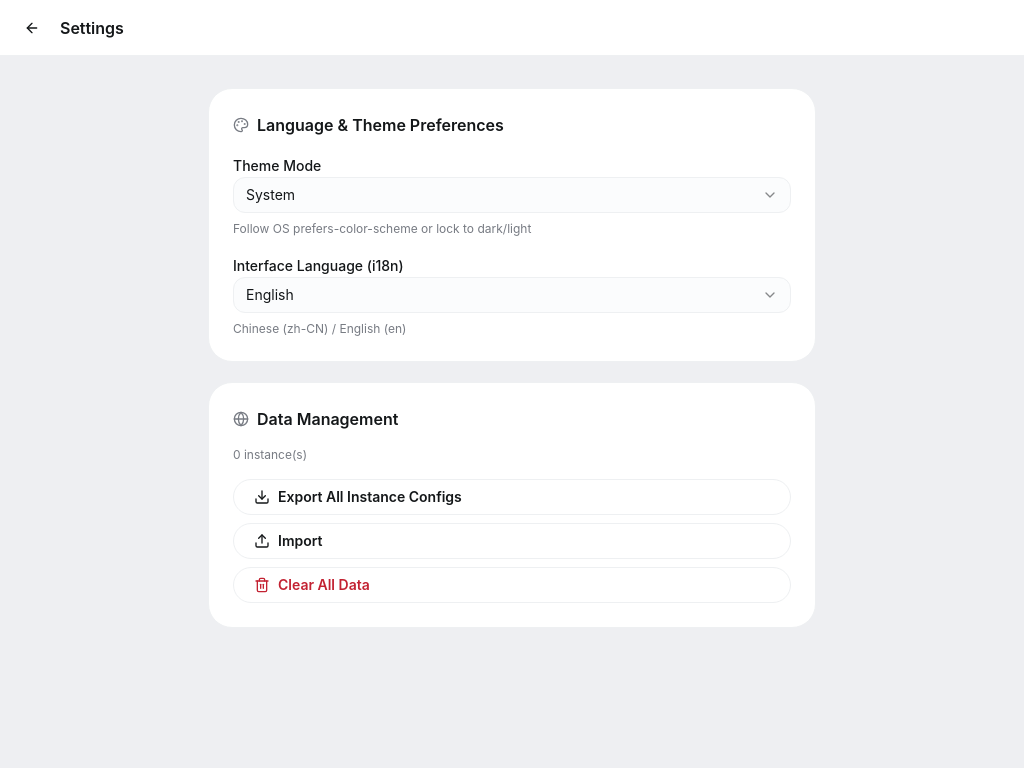
it: GlobalSettingsPage import dialog › answers a valid-but-empty array with the plain zero result
Click the button "Import" at (300, 540), box [233,523,791,559]
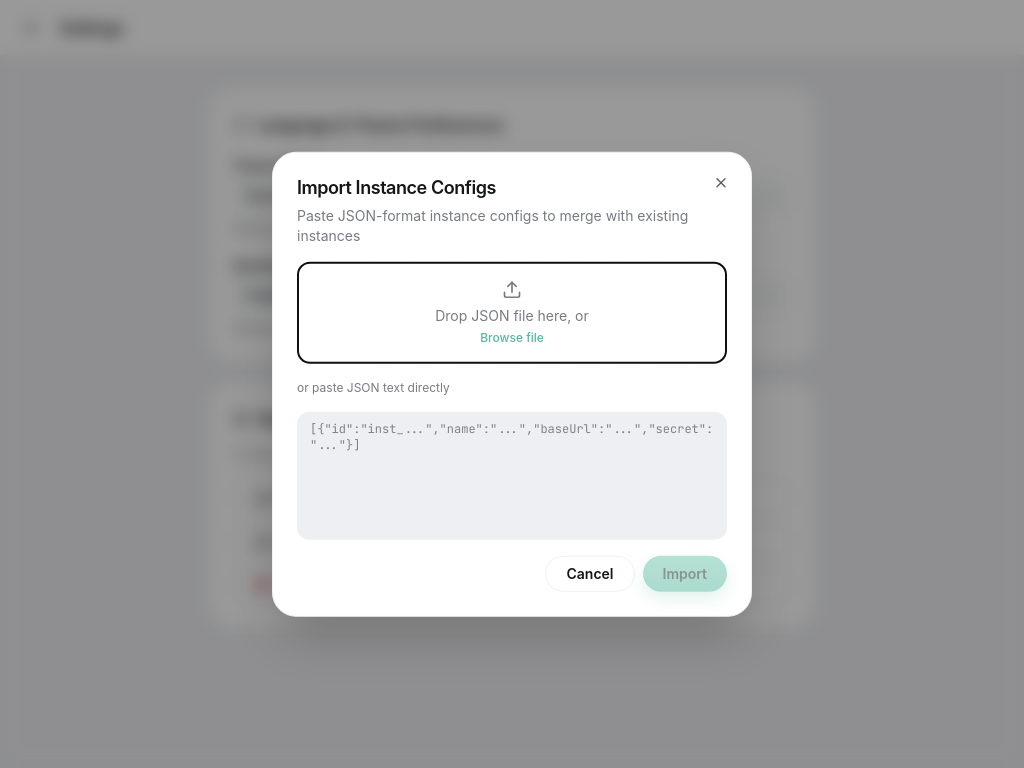
Replace the text in the text box named "Import Instance Configs" with "[]" at (512, 475), box [297,411,727,539]
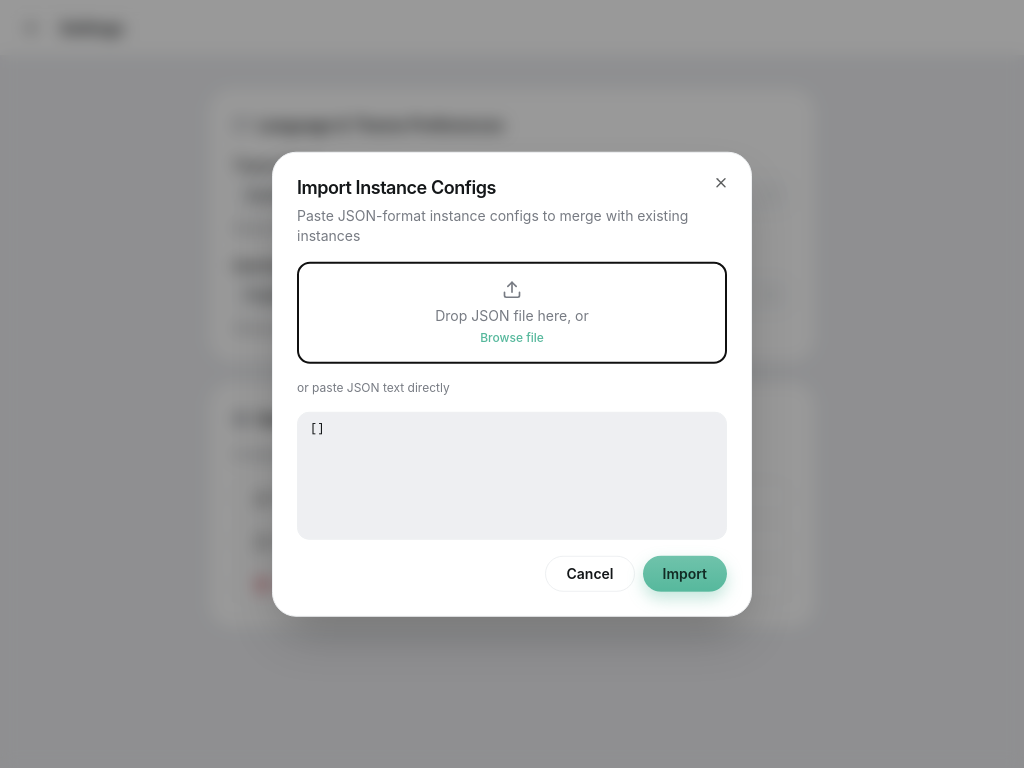
Click the button "Import" at (685, 573), box [642,555,727,591]
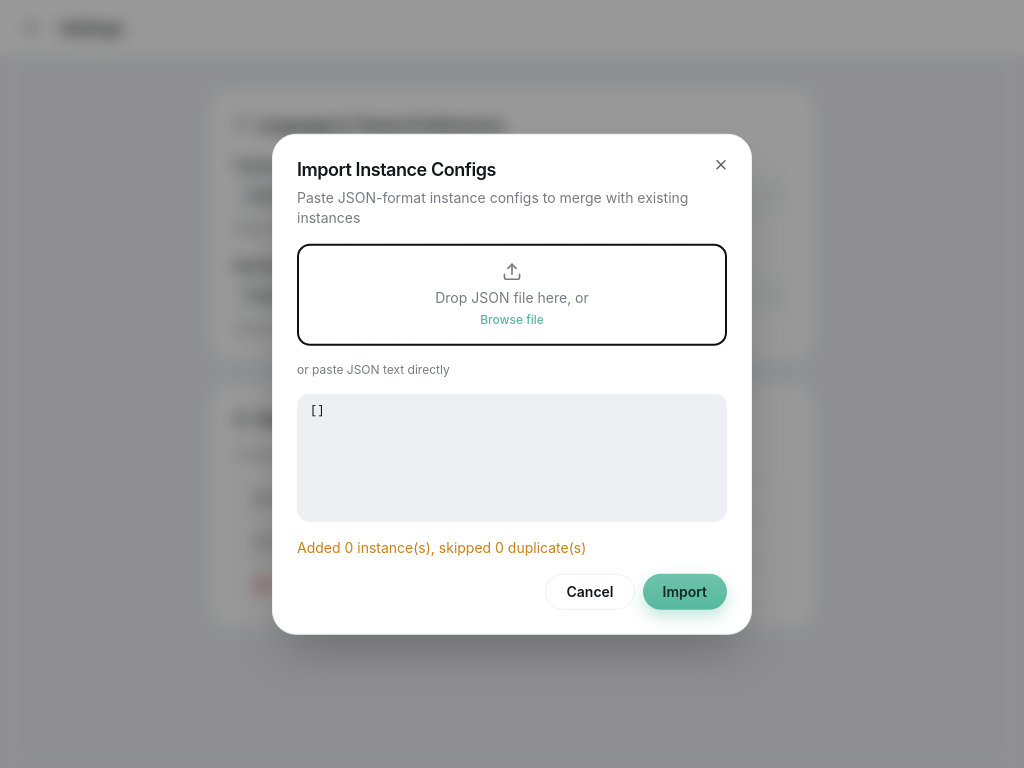
Now the message reads "Added 0 instance(s), skipped 0 duplicate(s)", box [297,538,586,555]
